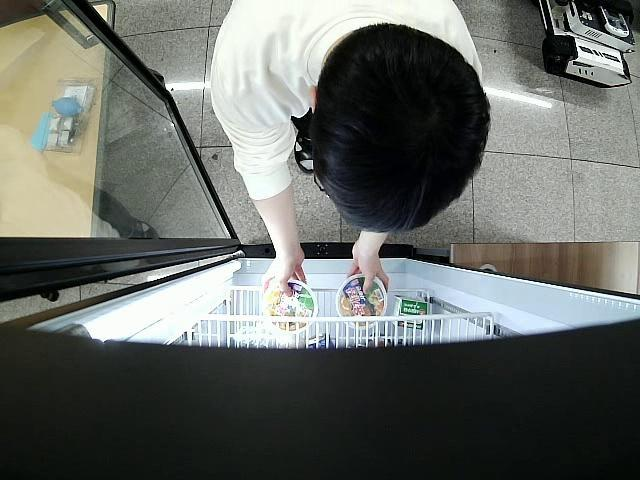09_yukGaeJang: (258, 281, 320, 332), (336, 276, 388, 330)
